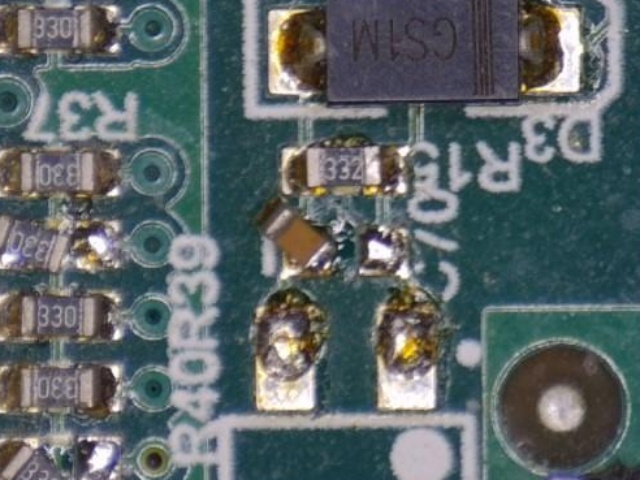pcb_defect: (0, 215, 124, 275), (256, 196, 338, 277), (0, 432, 123, 480)
